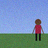person: (33, 19, 44, 40)
